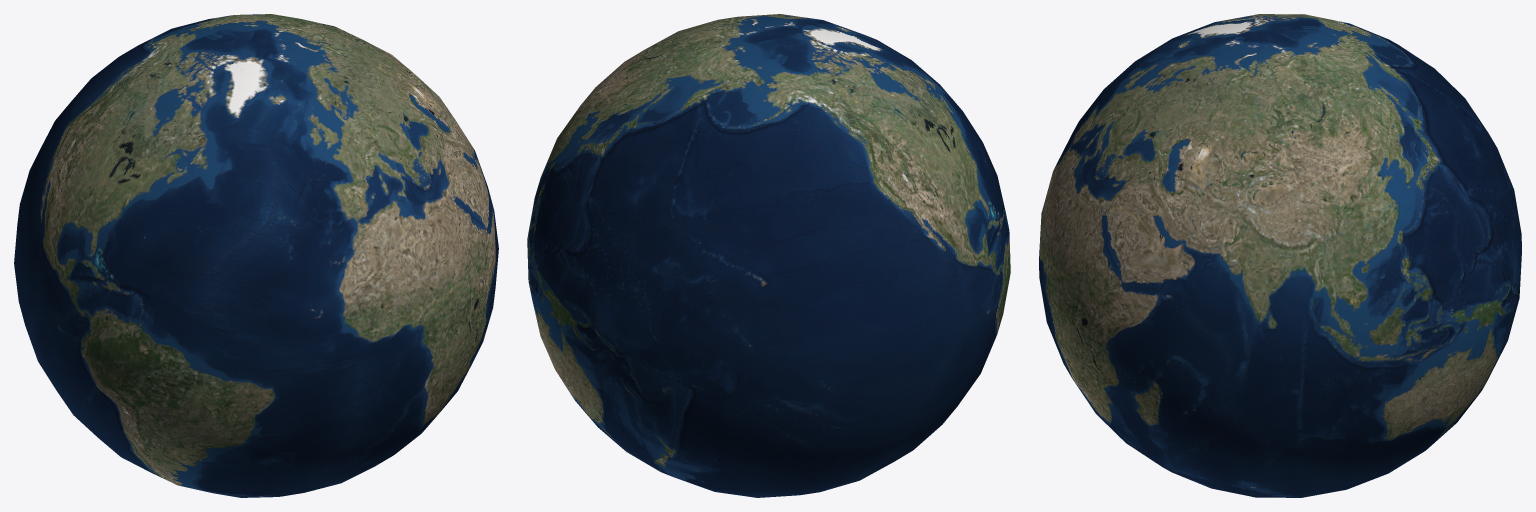
The model's file is tierra.obj.
3 renders of one model, left to right at view 1: azimuth 30°, elevation 25°; view 2: azimuth 150°, elevation 25°; view 3: azimuth 270°, elevation 25°, orthographic.
Visible parts, largest first — view 1: Atmosphere_Cube.001; view 2: Atmosphere_Cube.001; view 3: Atmosphere_Cube.001.
Part boxes in pixels (x1,y1,x2,y2): Atmosphere_Cube.001: (14, 14, 498, 497); Atmosphere_Cube.001: (527, 14, 1010, 497); Atmosphere_Cube.001: (1039, 14, 1521, 497).
Size of the model in its own units: 6.39 by 6.41 by 6.39.
3 materials, 3 textured.
